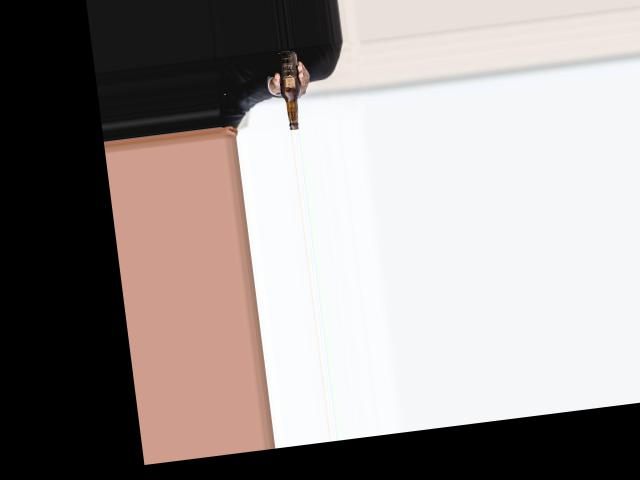beer: (276, 49, 306, 130)
